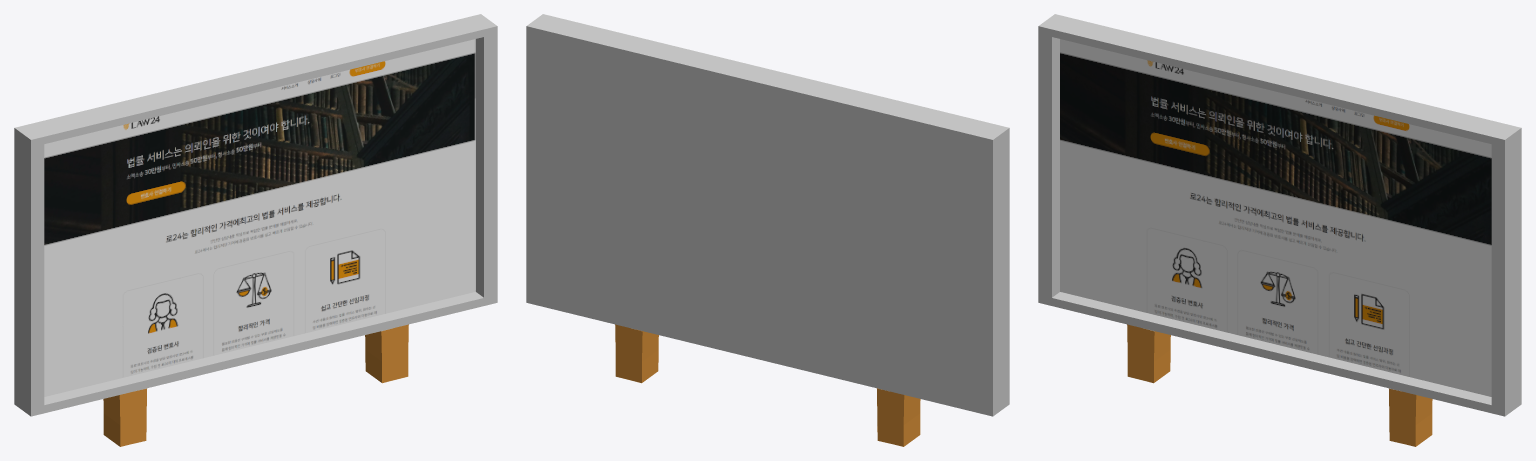
Rendered from frame-law1.glb.
3 views of the same model, side by side, from view 1: azimuth 30°, elevation 25°; view 2: azimuth 150°, elevation 25°; view 3: azimuth 330°, elevation 25° (orthographic).
Visible parts, largest first — view 1: law1, Cube; view 2: Cube; view 3: law1, Cube.
Part boxes in pixels (x1,y1,x2,y2): law1: (44,39,475,396); Cube: (14,14,497,446); Cube: (526,14,1009,446); law1: (1060,39,1491,396); Cube: (1038,14,1521,446).
Bounding box in the file's own units: 11.03 × 7.43 × 0.6791.
3 materials, 1 textured.
